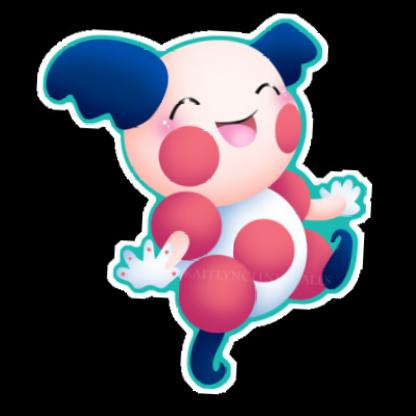Mr. Mime: (10, 12, 416, 416)
